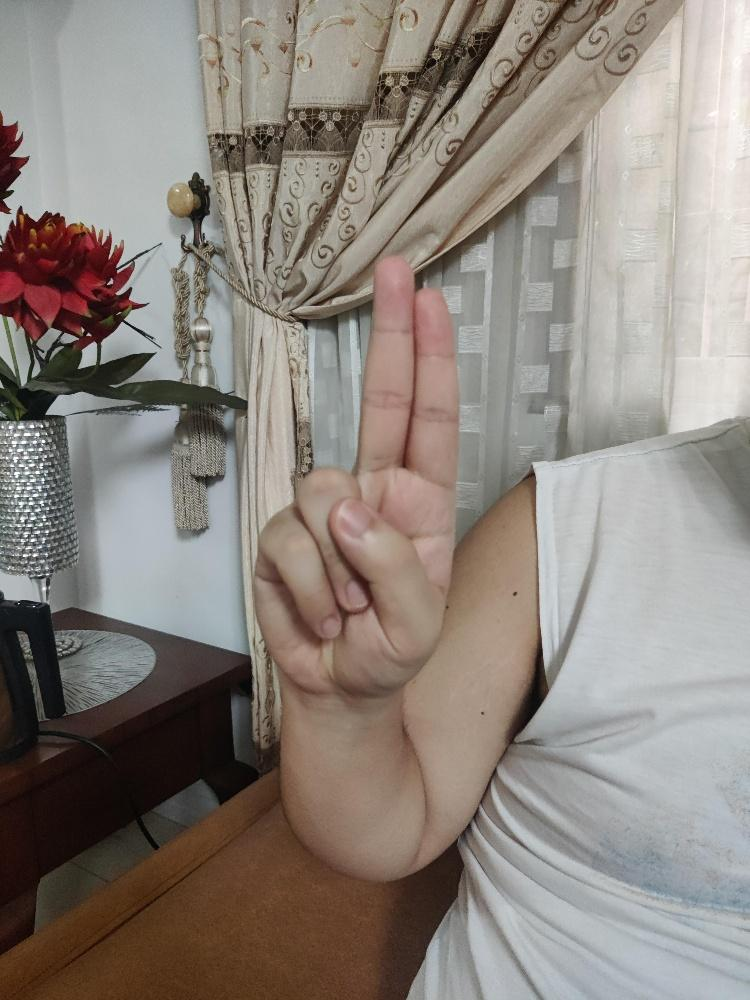u: (250, 253, 461, 696)
